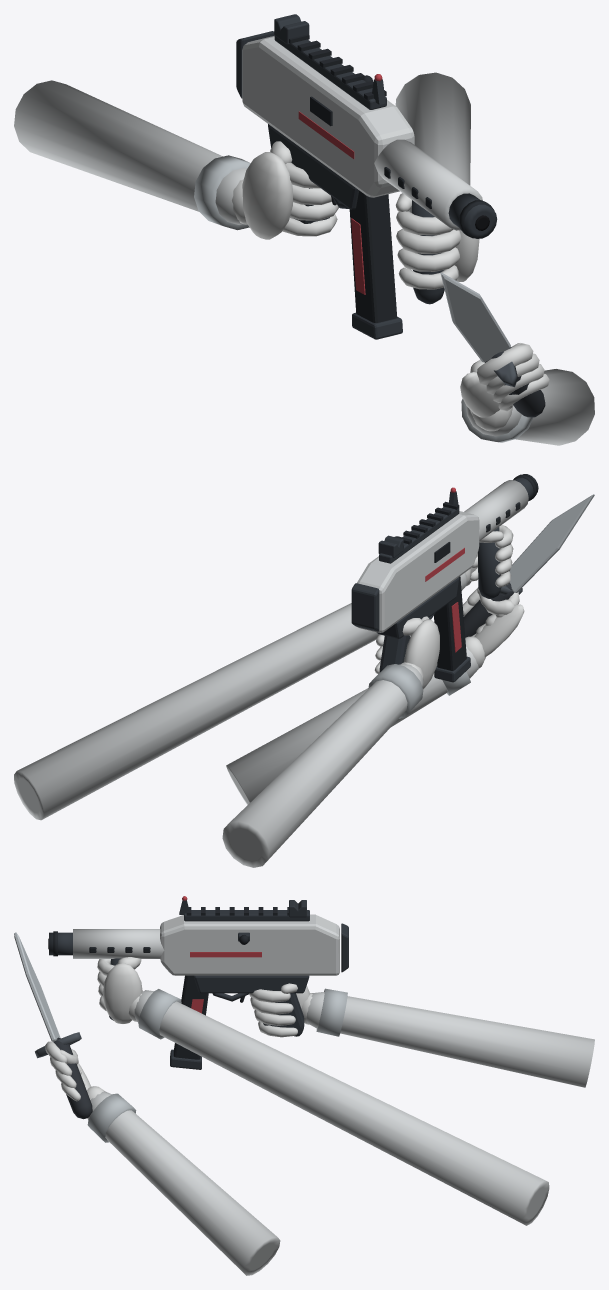
Rendered from neutrophil.glb.
3 views of the same model, one above another, from view 1: azimuth 30°, elevation 25°; view 2: azimuth 150°, elevation 25°; view 3: azimuth 270°, elevation 25° (orthographic). The views are drawn at different scales.
Parts seen in each view (by area): view 1: w_neutrophil.body, w_neutrophil.arm_r, w_neutrophil.melee, w_neutrophil.arm_l, w_neutrophil.mag; view 2: w_neutrophil.arm_l, w_neutrophil.body, w_neutrophil.arm_r, w_neutrophil.melee, w_neutrophil.mag; view 3: w_neutrophil.arm_l, w_neutrophil.body, w_neutrophil.arm_r, w_neutrophil.melee, w_neutrophil.mag.
Part boxes in pixels (x1,y1,x2,y2): w_neutrophil.body: (236,14,497,304); w_neutrophil.arm_r: (14,80,338,239); w_neutrophil.melee: (440,272,594,445); w_neutrophil.arm_l: (395,72,479,289); w_neutrophil.mag: (349,190,402,339); w_neutrophil.arm_l: (14,525,513,820); w_neutrophil.body: (351,474,538,672); w_neutrophil.arm_r: (222,616,439,867); w_neutrophil.melee: (226,494,594,804); w_neutrophil.mag: (434,576,470,682); w_neutrophil.arm_l: (97,957,549,1225); w_neutrophil.body: (48,896,348,1036); w_neutrophil.arm_r: (249,983,594,1087); w_neutrophil.melee: (14,932,280,1275); w_neutrophil.mag: (170,975,208,1069).
Size of the model in its own units: 0.528 by 0.5604 by 0.9683.
